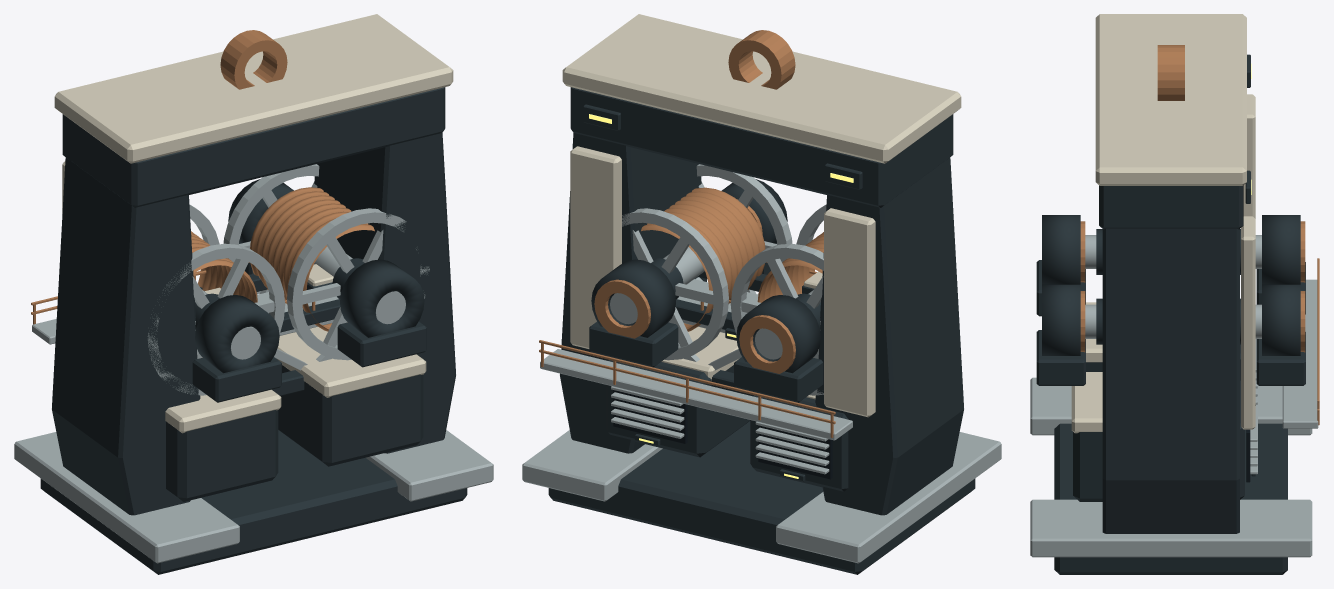
File: tension-gallery.glb
The picture shows the model from 3 angles, left to right: view 1: azimuth 30°, elevation 25°; view 2: azimuth 150°, elevation 25°; view 3: azimuth 270°, elevation 25°; orthographic projection.
Parts seen in each view (by area): view 1: sail_load_crown__graphite_structural_carbon, sail_load_crown__ceramic_warm_ivory, sail_load_crown__titanium_formed_fittings, sail_load_crown__copper_tension_fittings, tension_gallery_segment__graphite_structural_carbon, tension_gallery_segment__titanium_formed_fittings; view 2: sail_load_crown__graphite_structural_carbon, sail_load_crown__ceramic_warm_ivory, sail_load_crown__titanium_formed_fittings, sail_load_crown__copper_tension_fittings, sail_load_crown__interior_deep_graphite, tension_gallery_segment__graphite_structural_carbon, tension_gallery_segment__titanium_formed_fittings; view 3: sail_load_crown__graphite_structural_carbon, sail_load_crown__ceramic_warm_ivory, sail_load_crown__titanium_formed_fittings, sail_load_crown__copper_tension_fittings.
Part boxes in pixels (x1,y1,x2,y2): sail_load_crown__graphite_structural_carbon: (40, 87, 467, 574); sail_load_crown__ceramic_warm_ivory: (54, 14, 453, 433); sail_load_crown__titanium_formed_fittings: (14, 164, 493, 563); sail_load_crown__copper_tension_fittings: (31, 30, 374, 331); tension_gallery_segment__graphite_structural_carbon: (200, 273, 340, 395); tension_gallery_segment__titanium_formed_fittings: (257, 292, 338, 370); sail_load_crown__graphite_structural_carbon: (548, 87, 975, 574); sail_load_crown__ceramic_warm_ivory: (562, 14, 961, 417); sail_load_crown__titanium_formed_fittings: (522, 164, 1001, 563); sail_load_crown__copper_tension_fittings: (539, 30, 835, 437); sail_load_crown__interior_deep_graphite: (613, 390, 832, 479); tension_gallery_segment__graphite_structural_carbon: (675, 271, 814, 395); tension_gallery_segment__titanium_formed_fittings: (677, 277, 758, 370); sail_load_crown__graphite_structural_carbon: (1036, 54, 1305, 574); sail_load_crown__ceramic_warm_ivory: (1071, 14, 1255, 433); sail_load_crown__titanium_formed_fittings: (1030, 235, 1318, 557); sail_load_crown__copper_tension_fittings: (1080, 45, 1319, 425).
Size of the model in its own units: 56 by 72.9 by 42.07.
